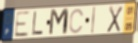C: (68, 8, 85, 35)
E: (13, 10, 31, 39)
I: (90, 6, 97, 35)
L: (31, 11, 44, 37)
M: (48, 8, 70, 38)
X: (106, 6, 124, 34)
